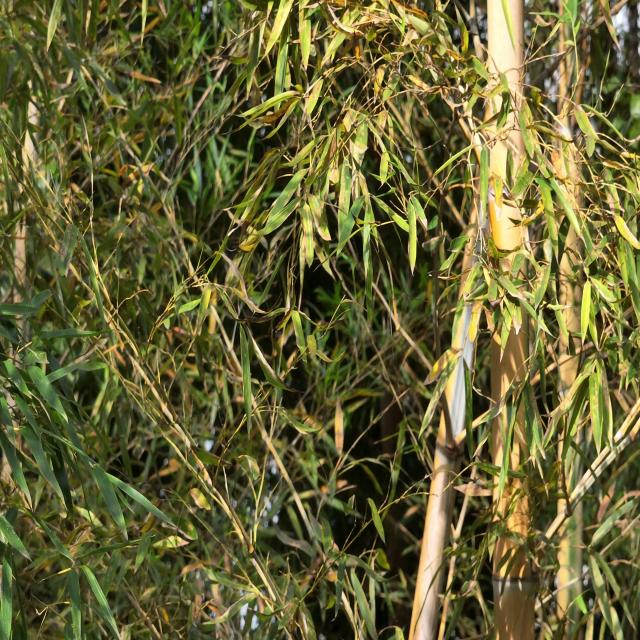Bamboo-shoots: (486, 0, 536, 640)
